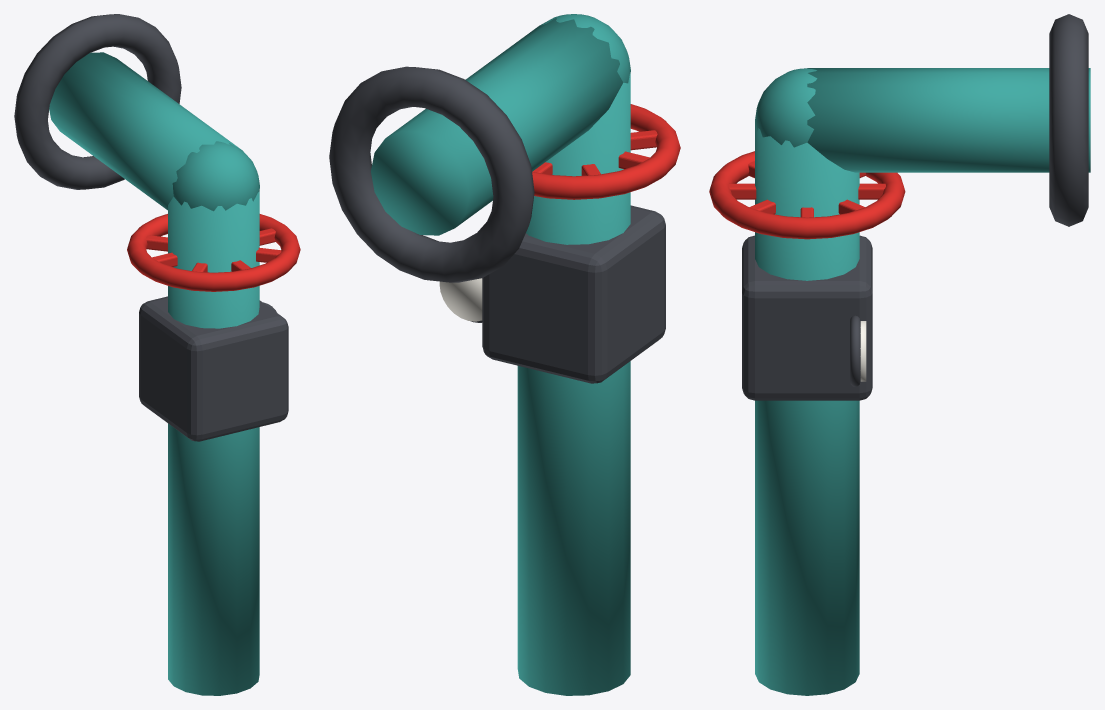
The model's file is Wall_PipeValve.fbx.
The picture shows the model from 3 angles, left to right: view 1: azimuth 30°, elevation 25°; view 2: azimuth 150°, elevation 25°; view 3: azimuth 270°, elevation 25°; orthographic projection. The views are drawn at different scales.
Parts seen in each view (by area): view 1: Wall_PipeValve; view 2: Wall_PipeValve; view 3: Wall_PipeValve.
Part boxes in pixels (<box>): Wall_PipeValve: <box>14,14,300,695</box>; Wall_PipeValve: <box>329,14,680,695</box>; Wall_PipeValve: <box>709,14,1090,695</box>.
Size of the model in its own units: 0.507 by 1.65 by 0.875.
